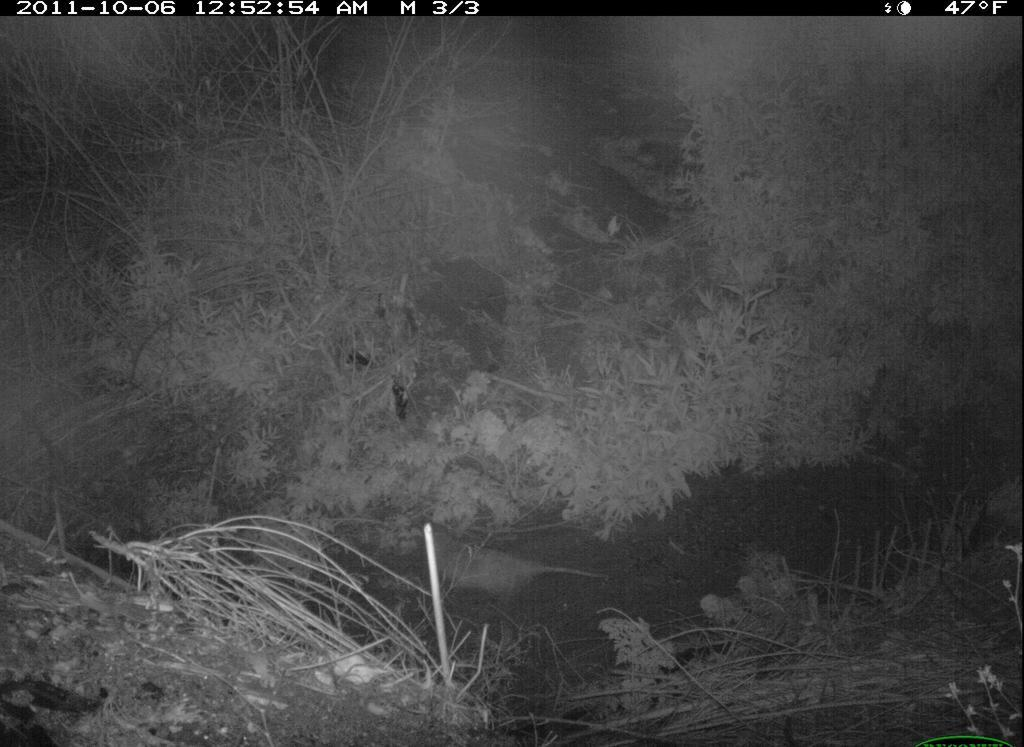opossum: (425, 532, 610, 603)
